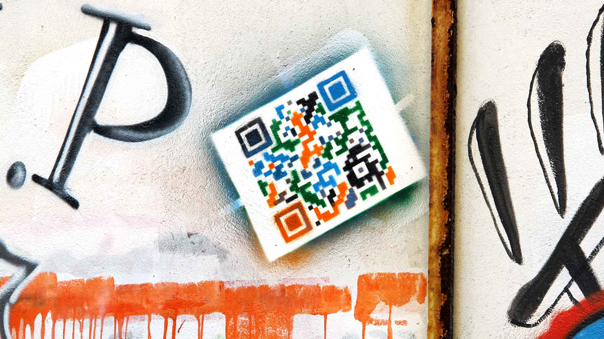QR-CODE: (235, 69, 397, 242)
